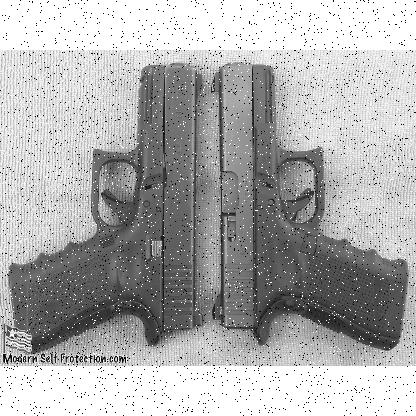gun: (211, 60, 409, 350), (8, 61, 202, 353)
